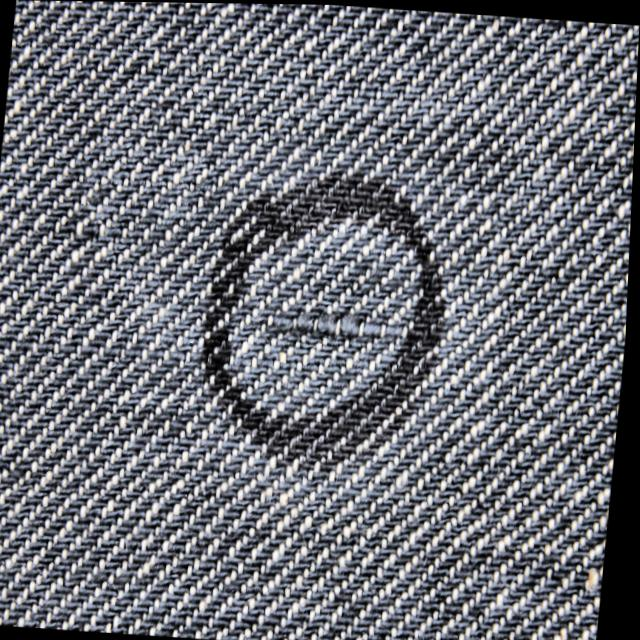Stitch: (248, 266, 417, 369)
